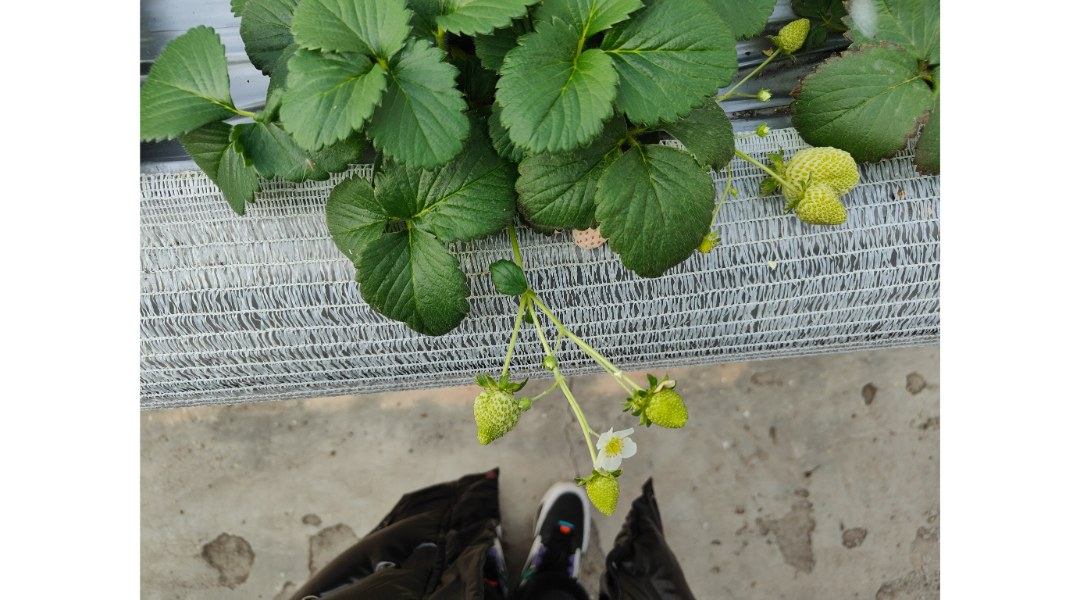berry: (469, 373, 528, 447)
flower: (593, 430, 639, 478)
strain: (629, 374, 698, 432), (563, 382, 592, 456), (501, 302, 527, 376), (568, 331, 614, 362), (529, 305, 551, 357)
